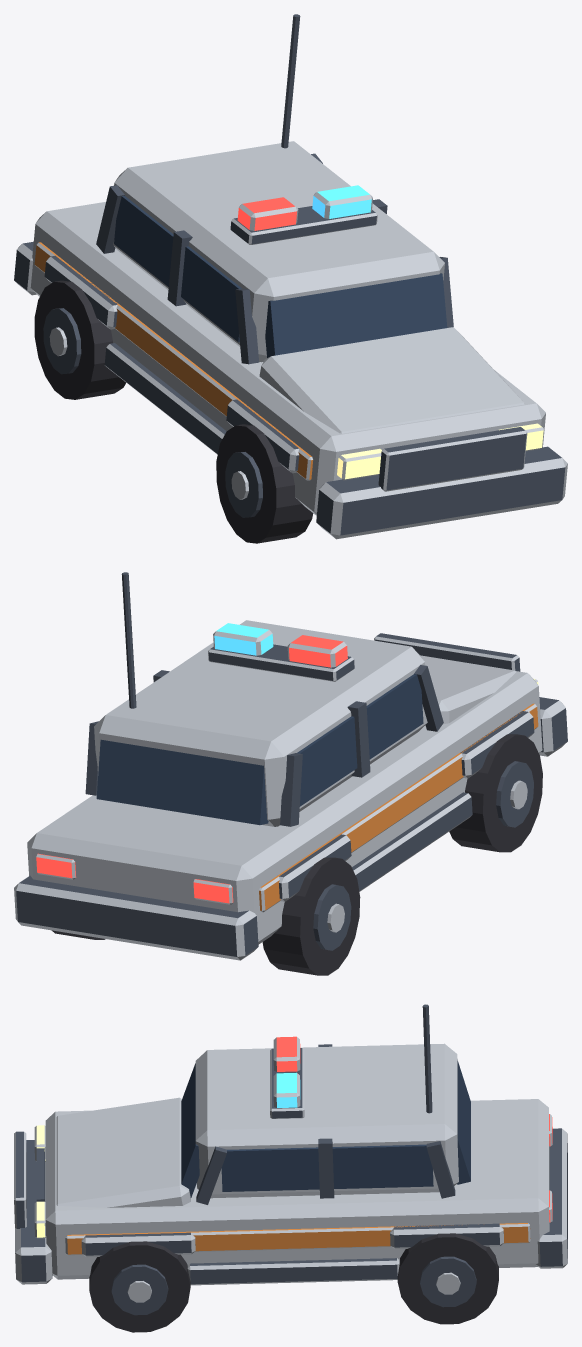
Rendered from guts_vehicle_wreck.glb.
3 views of the same model, one above another, from view 1: azimuth 30°, elevation 25°; view 2: azimuth 150°, elevation 25°; view 3: azimuth 270°, elevation 25° (orthographic). The views are drawn at different scales.
Visible parts, largest first — view 1: GutsVehicleWreck; view 2: GutsVehicleWreck; view 3: GutsVehicleWreck.
Part boxes in pixels (<box>): GutsVehicleWreck: <box>14,14,567,543</box>; GutsVehicleWreck: <box>14,572,567,975</box>; GutsVehicleWreck: <box>14,1004,567,1332</box>.
Size of the model in its own units: 2.71 by 3.37 by 5.46.
